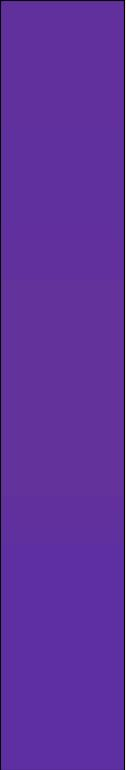safe: (9, 13, 115, 754)
